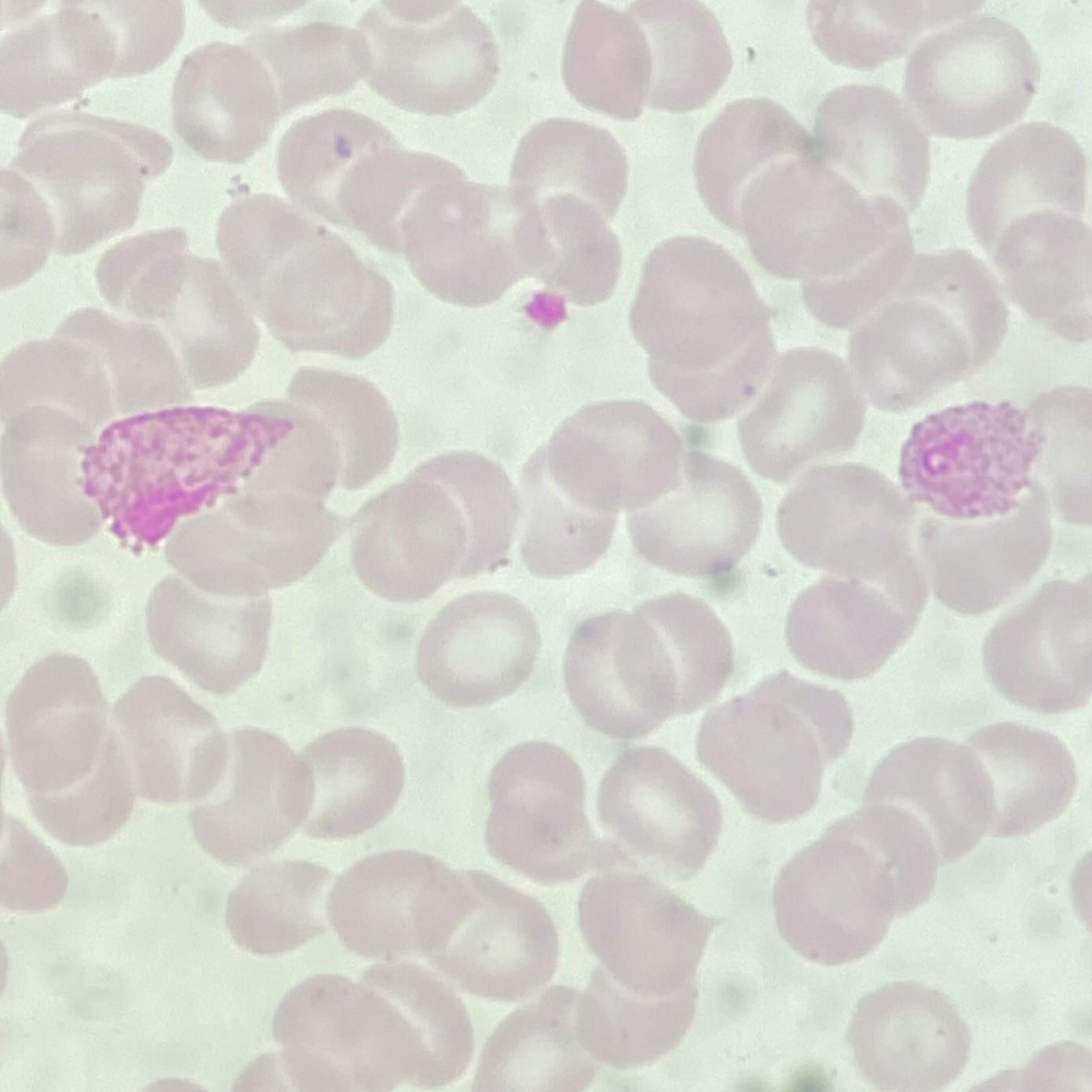Infected: (79, 401, 293, 556), (899, 395, 1040, 521)
Uninfected: (171, 491, 360, 600), (732, 157, 894, 279), (414, 872, 564, 1001), (626, 234, 773, 364), (905, 487, 1054, 615), (622, 446, 764, 579), (404, 187, 549, 311), (186, 723, 310, 866), (579, 870, 723, 992), (12, 130, 148, 257), (740, 346, 869, 479), (866, 736, 996, 866), (145, 572, 277, 700), (130, 256, 257, 389), (695, 693, 825, 822), (393, 446, 519, 578), (905, 18, 1042, 138), (591, 752, 725, 874), (355, 958, 477, 1092), (0, 652, 115, 794), (334, 854, 481, 965), (104, 677, 225, 811), (349, 479, 477, 603), (968, 116, 1083, 254), (777, 464, 912, 581), (977, 581, 1092, 716), (343, 144, 480, 256), (551, 399, 685, 513), (813, 85, 932, 213), (414, 587, 539, 708), (287, 365, 407, 491), (614, 589, 734, 714), (787, 572, 927, 678), (271, 112, 403, 224), (769, 844, 888, 968), (359, 12, 500, 115), (283, 725, 411, 837), (565, 611, 673, 741), (2, 409, 104, 546), (949, 726, 1078, 833), (824, 807, 938, 926), (481, 995, 618, 1092), (504, 116, 630, 221), (846, 305, 970, 411), (848, 980, 965, 1092), (169, 44, 280, 162), (575, 956, 696, 1063), (622, 0, 733, 115), (0, 338, 112, 450), (999, 205, 1092, 339), (96, 222, 191, 331), (565, 0, 652, 119), (226, 864, 338, 956), (483, 738, 588, 826)
